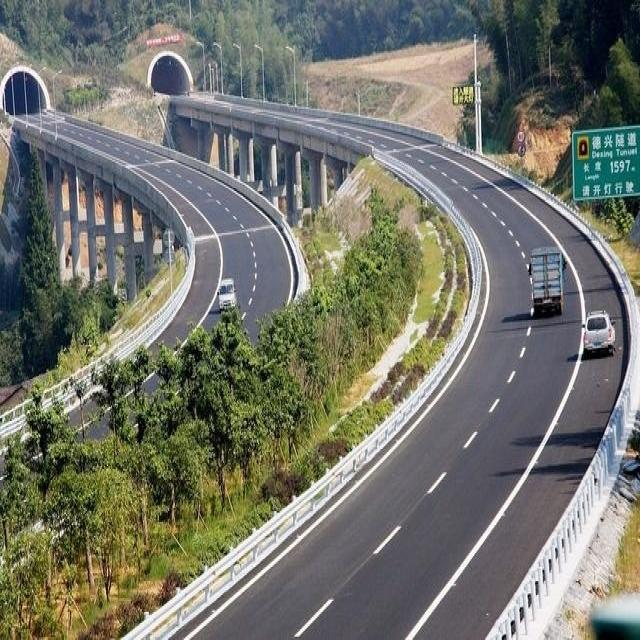point: (0, 53, 64, 146), (145, 42, 205, 120)
